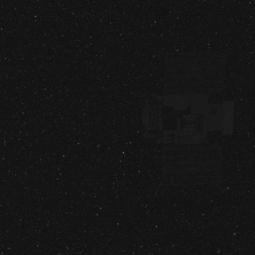proba_2: (127, 75, 232, 156)
